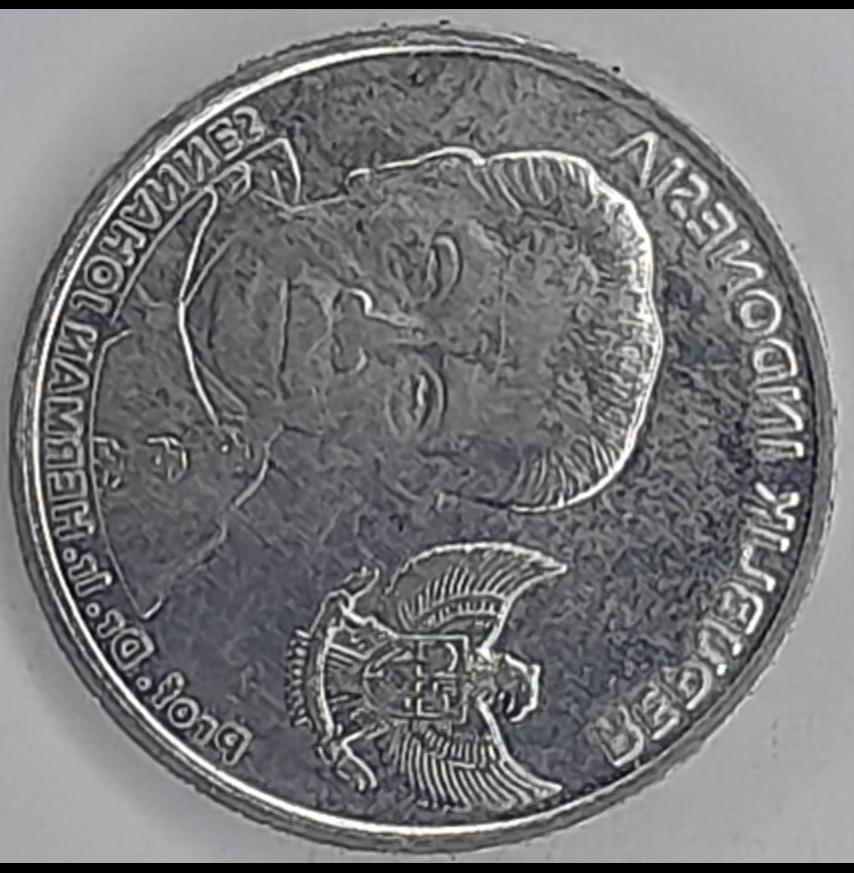coin_100_e2016: (2, 16, 841, 856)
